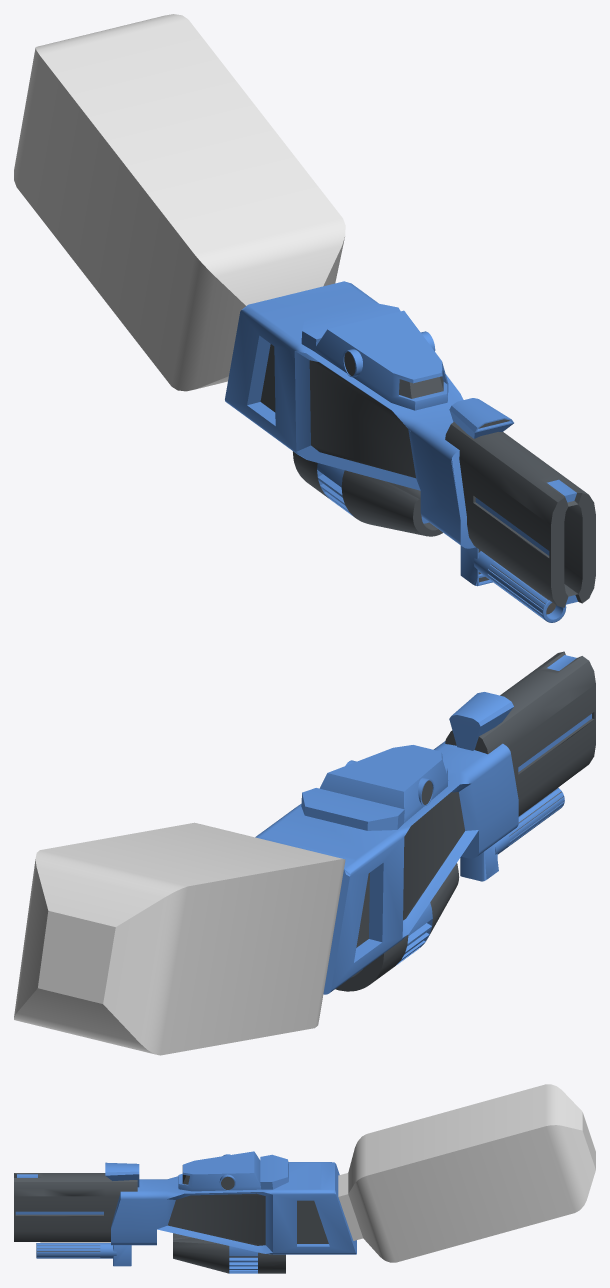
Rendered from VacuumGun (adapted from AssetStore).fbx.
3 views of the same model, one above another, from view 1: azimuth 30°, elevation 25°; view 2: azimuth 150°, elevation 25°; view 3: azimuth 270°, elevation 25° (orthographic). The views are drawn at different scales.
Parts seen in each view (by area): view 1: LaserGunLevel3Blue; view 2: LaserGunLevel3Blue; view 3: LaserGunLevel3Blue.
Boxes of the visible parts, bbox=[...] form: LaserGunLevel3Blue: bbox=[14, 14, 595, 622]; LaserGunLevel3Blue: bbox=[14, 651, 595, 1055]; LaserGunLevel3Blue: bbox=[14, 1084, 595, 1273].
Size of the model in its own units: 66.61 by 123 by 391.
